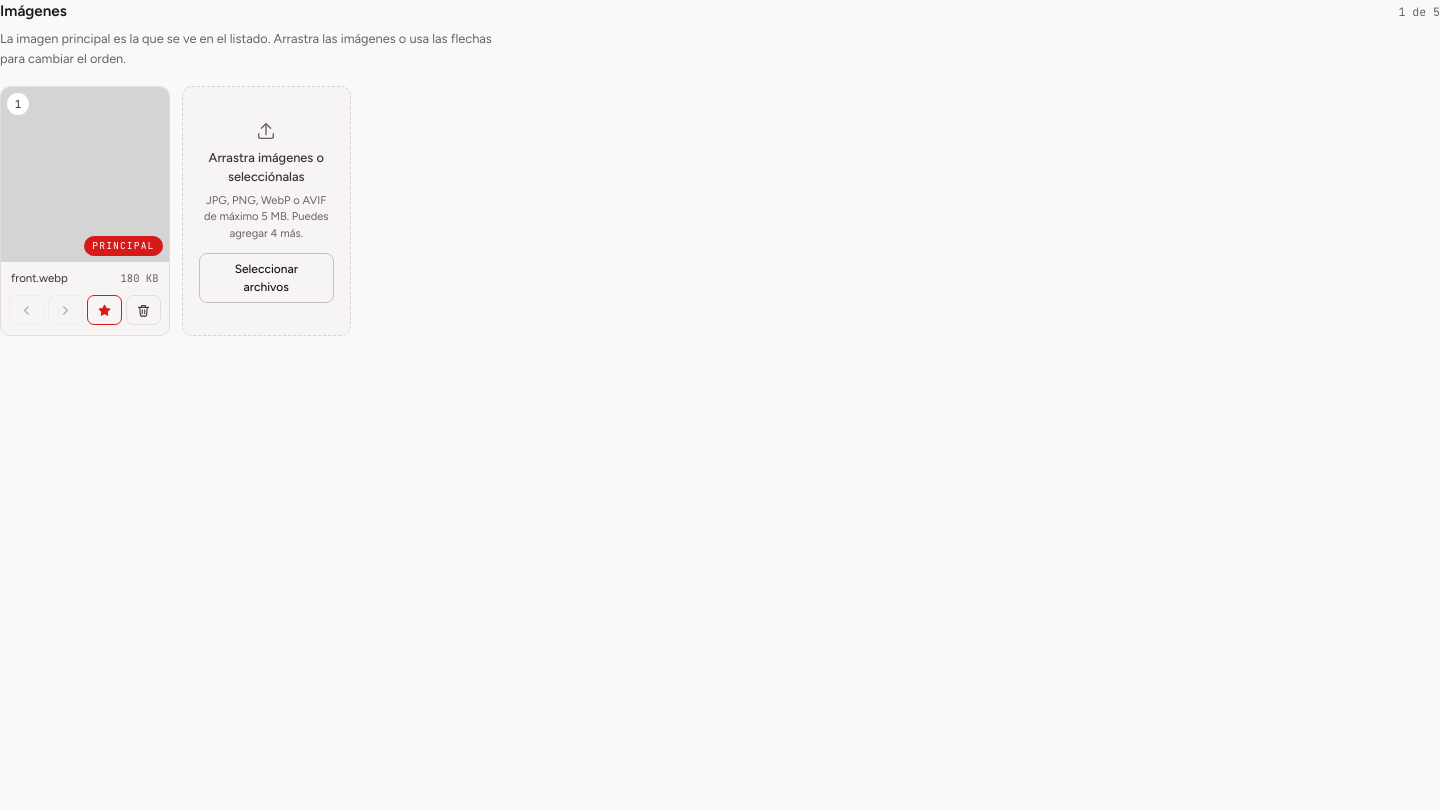
Test: ProductImageManager › keeps the dialog open with the error when the delete fails
What coordinates should you click on to do the following:
click the button named "Eliminar la imagen 1"
I would click on:
 (143, 310)
Its box is top-left (126, 295), bottom-right (160, 325).
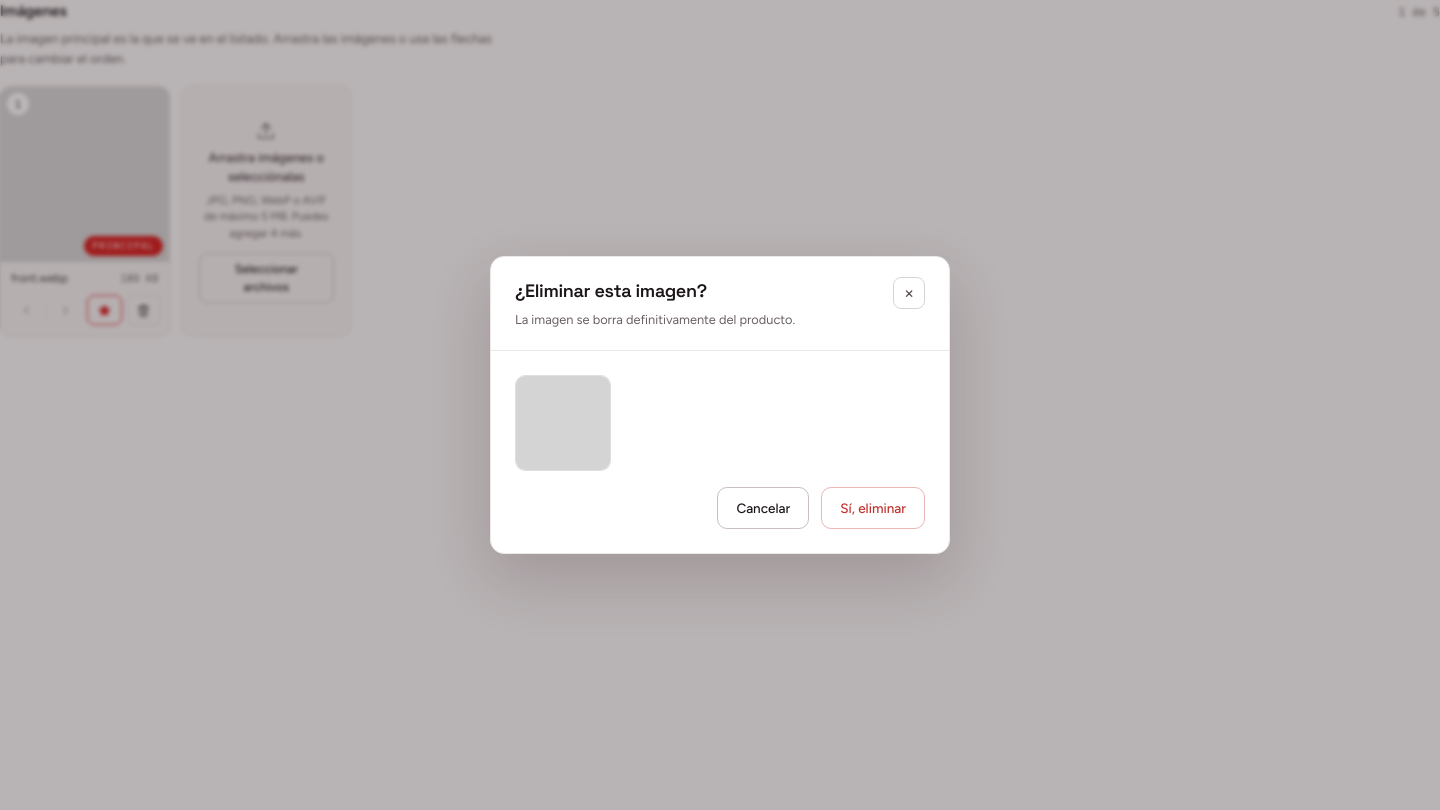
What coordinates should you click on to do the following:
click the button "Sí, eliminar"
I would click on:
 (873, 508)
Its box is top-left (821, 487), bottom-right (925, 529).
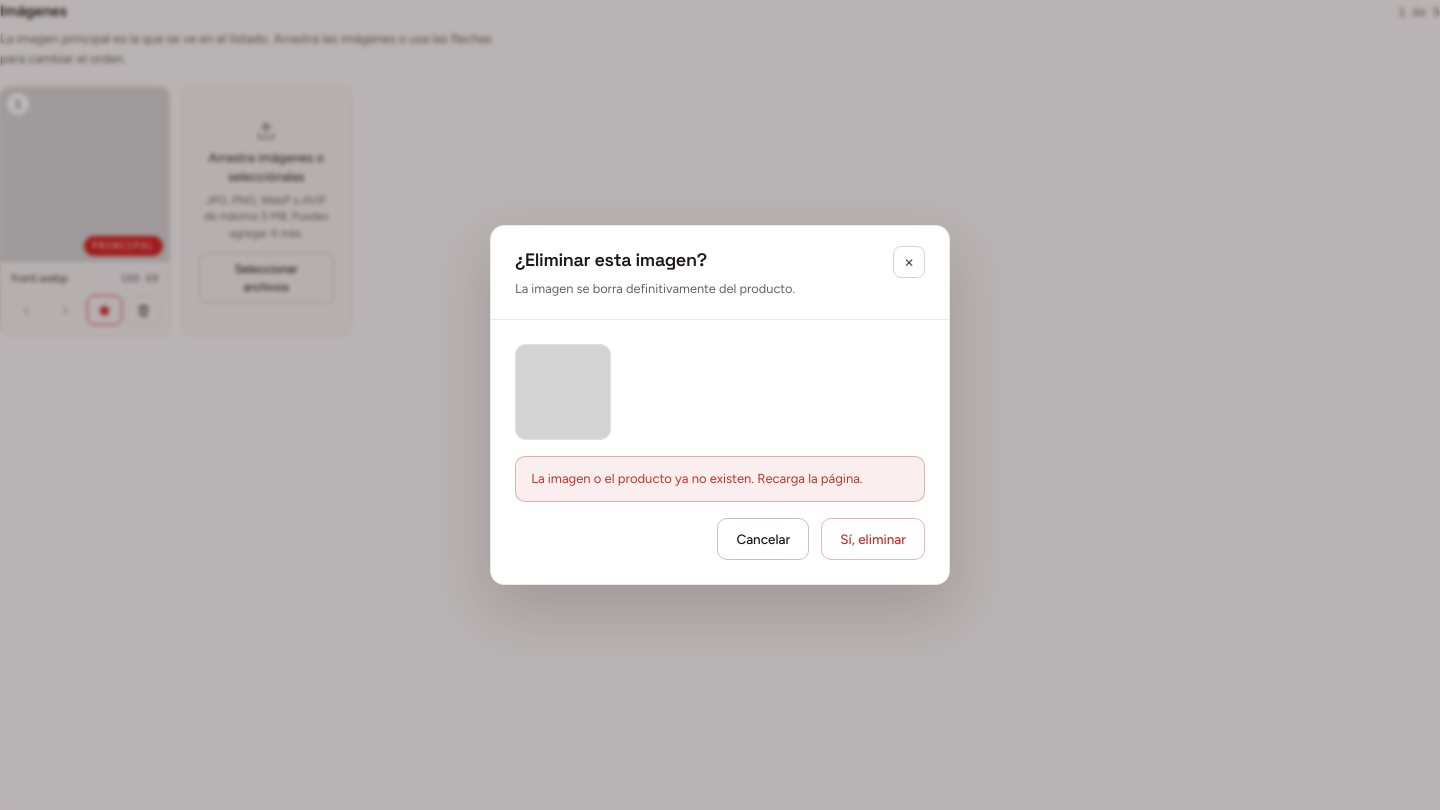
expect the dialog is shown: met, box top-left (490, 225), bottom-right (950, 585)
expect the message shows "La imagen o el producto ya no existen": met, box top-left (531, 471), bottom-right (862, 486)
